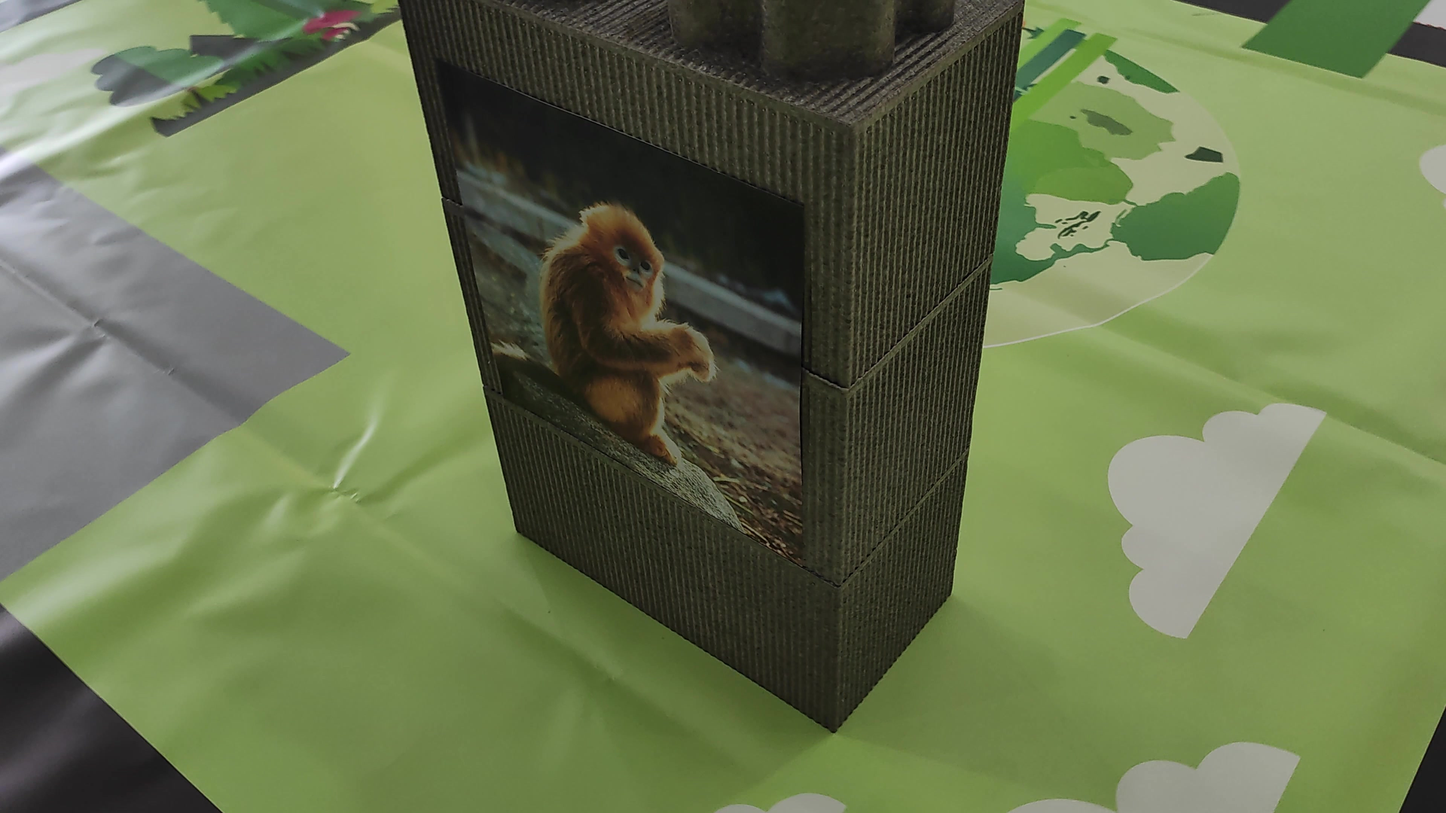monkey: (513, 168, 740, 463)
